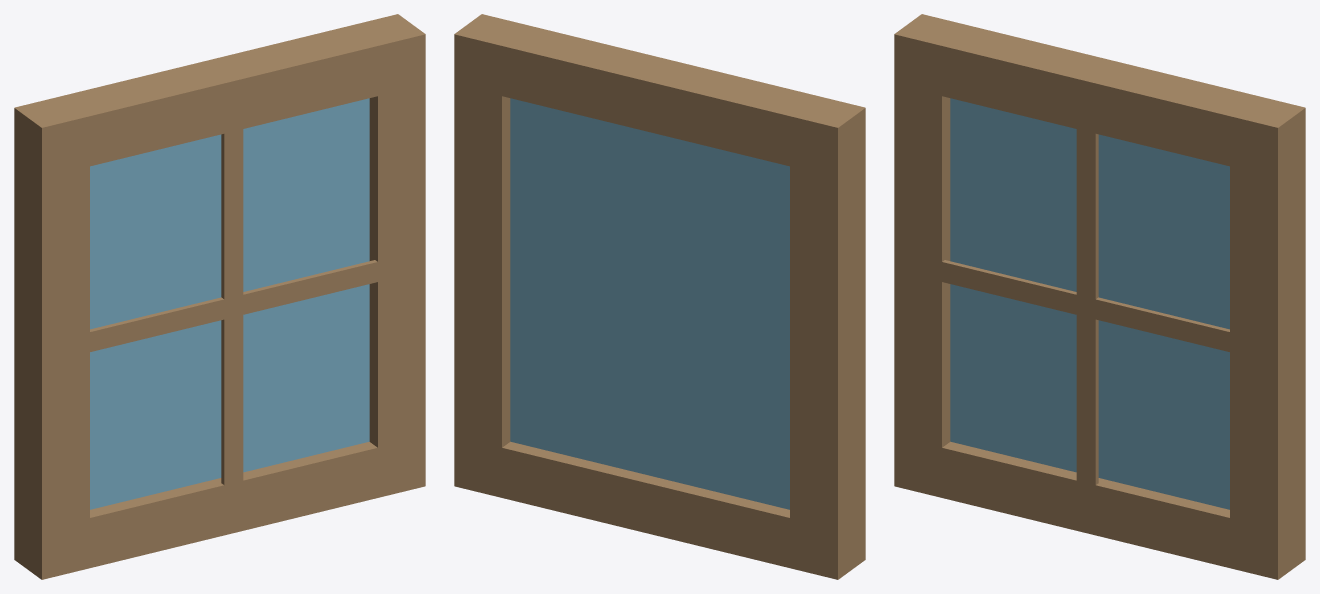
File: kit_window.glb
The picture shows the model from 3 angles, left to right: view 1: azimuth 30°, elevation 25°; view 2: azimuth 150°, elevation 25°; view 3: azimuth 330°, elevation 25°; orthographic projection.
Visible parts, largest first — view 1: glass, jamb_0.001, rail_1, jamb_1.001, rail_0, mullion_v, mullion_h; view 2: glass, jamb_0.001, rail_1, jamb_1.001, rail_0; view 3: glass, jamb_1.001, rail_1, jamb_0.001, rail_0, mullion_v, mullion_h.
Part boxes in pixels (bbox=[...]): glass: bbox=[90, 98, 369, 509]; jamb_0.001: bbox=[14, 108, 89, 579]; rail_1: bbox=[14, 14, 425, 177]; jamb_1.001: bbox=[369, 34, 425, 497]; rail_0: bbox=[14, 436, 425, 579]; mullion_v: bbox=[221, 129, 243, 485]; mullion_h: bbox=[90, 260, 377, 351]; glass: bbox=[510, 98, 789, 509]; jamb_0.001: bbox=[790, 108, 865, 579]; rail_1: bbox=[454, 14, 865, 177]; jamb_1.001: bbox=[454, 34, 510, 496]; rail_0: bbox=[454, 436, 865, 579]; glass: bbox=[950, 98, 1229, 509]; jamb_1.001: bbox=[1230, 108, 1305, 579]; rail_1: bbox=[894, 14, 1305, 177]; jamb_0.001: bbox=[894, 34, 950, 496]; rail_0: bbox=[894, 436, 1305, 579]; mullion_v: bbox=[1076, 129, 1098, 485]; mullion_h: bbox=[942, 260, 1229, 351].
Size of the model in its own units: 0.8 by 0.9 by 0.1.
